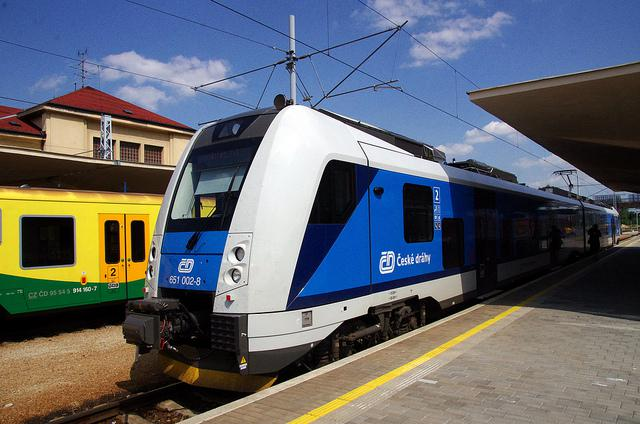Train: (119, 106, 622, 391), (4, 183, 165, 325)
